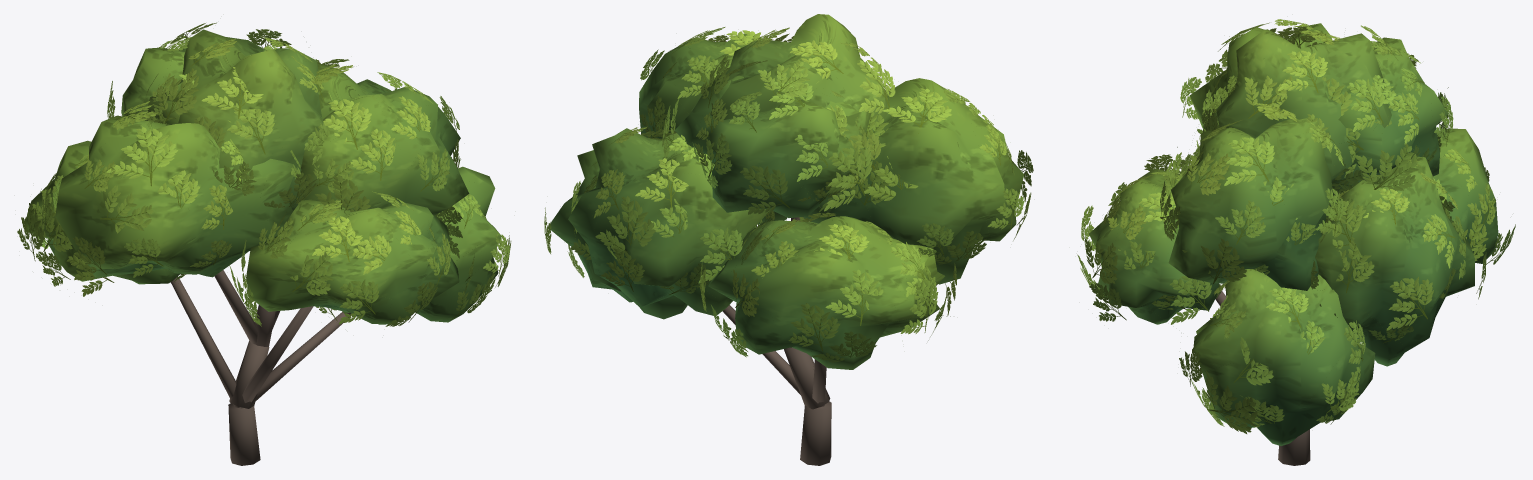
The model's file is linden.glb.
The picture shows the model from 3 angles, left to right: view 1: azimuth 30°, elevation 25°; view 2: azimuth 150°, elevation 25°; view 3: azimuth 270°, elevation 25°; orthographic projection. The views are drawn at different scales.
Parts seen in each view (by area): view 1: linden; view 2: linden; view 3: linden.
Part boxes in pixels (box(x1,y1,x2,y2)): linden: box(17, 22, 511, 465); linden: box(544, 14, 1033, 465); linden: box(1077, 19, 1515, 465).
Bounding box in the file's own units: 9.42 × 8.35 × 7.86.
Materials: 1 (1 with a texture image).
